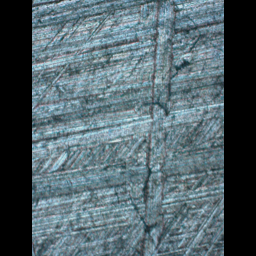d: (137, 0, 203, 255), (32, 0, 117, 112)
